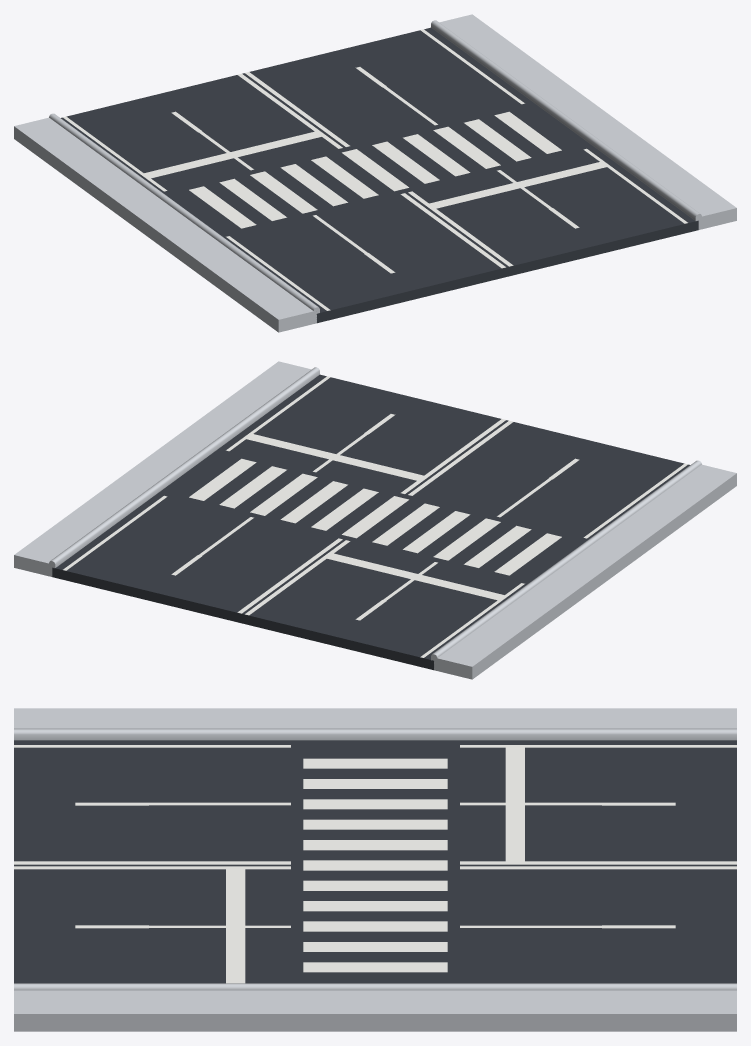
File: avenida_reta_faixa_pedestres.glb
The picture shows the model from 3 angles, top to bottom: view 1: azimuth 30°, elevation 25°; view 2: azimuth 150°, elevation 25°; view 3: azimuth 270°, elevation 25°; orthographic projection. The views are drawn at different scales.
Parts seen in each view (by area): view 1: avenida_reta_faixa_pedestres; view 2: avenida_reta_faixa_pedestres; view 3: avenida_reta_faixa_pedestres.
Boxes of the visible parts, bbox=[...] form: avenida_reta_faixa_pedestres: bbox=[14, 14, 736, 332]; avenida_reta_faixa_pedestres: bbox=[14, 361, 736, 679]; avenida_reta_faixa_pedestres: bbox=[14, 708, 736, 1031].
Bounding box in the file's own units: 15 × 0.5 × 15.
Materials: 1 (1 with a texture image).
